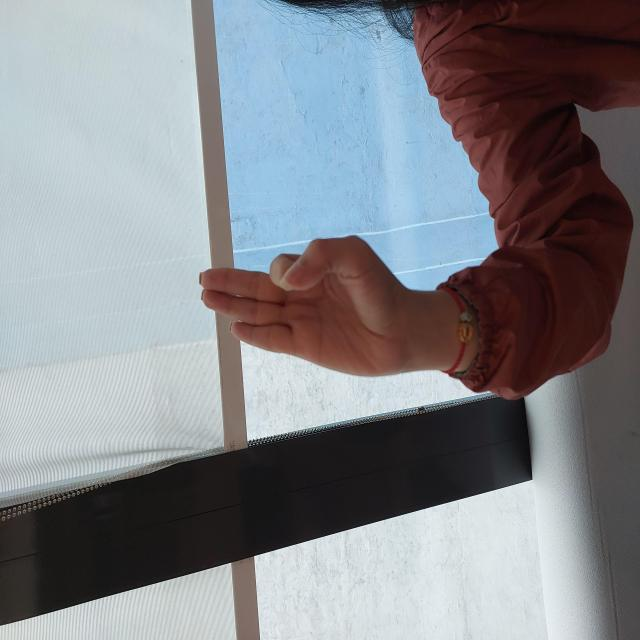F: (260, 198, 412, 405)
